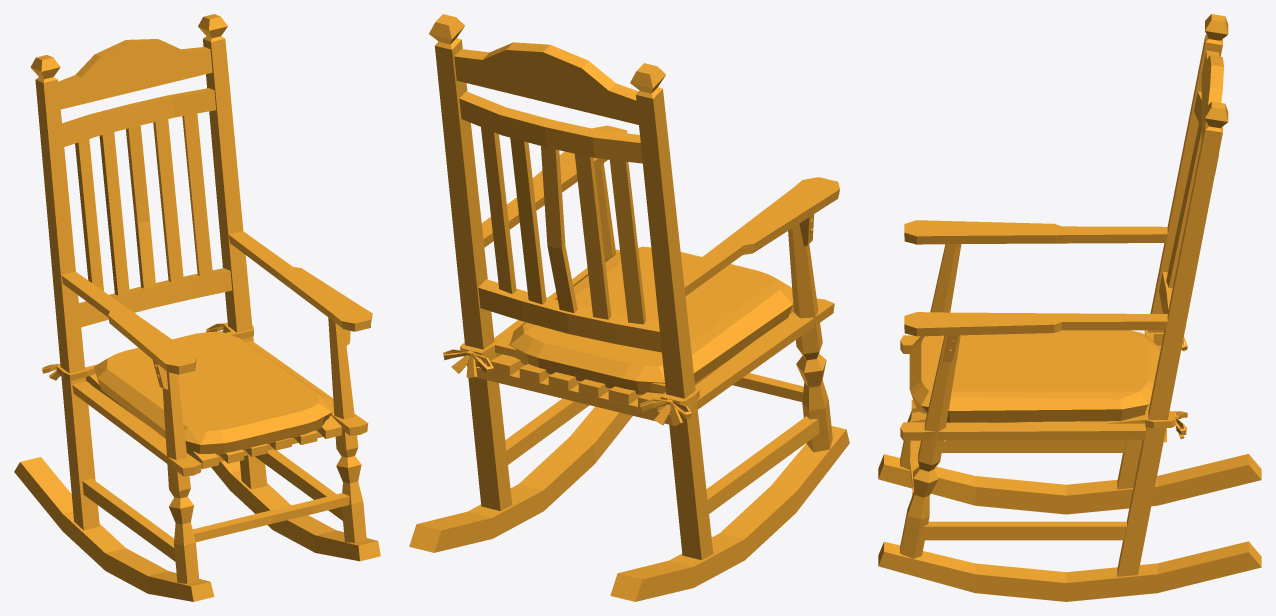
File: SM_Chair_Rocking_B_Farm.fbx
The picture shows the model from 3 angles, left to right: view 1: azimuth 30°, elevation 25°; view 2: azimuth 150°, elevation 25°; view 3: azimuth 270°, elevation 25°; orthographic projection. The views are drawn at different scales.
Parts seen in each view (by area): view 1: chair-rocking-b-farm; view 2: chair-rocking-b-farm; view 3: chair-rocking-b-farm.
Boxes of the visible parts, bbox=[...] form: chair-rocking-b-farm: bbox=[14, 14, 380, 601]; chair-rocking-b-farm: bbox=[409, 14, 849, 601]; chair-rocking-b-farm: bbox=[878, 14, 1261, 601].
Bounding box in the file's own units: 0.668 × 1.42 × 0.9997.
